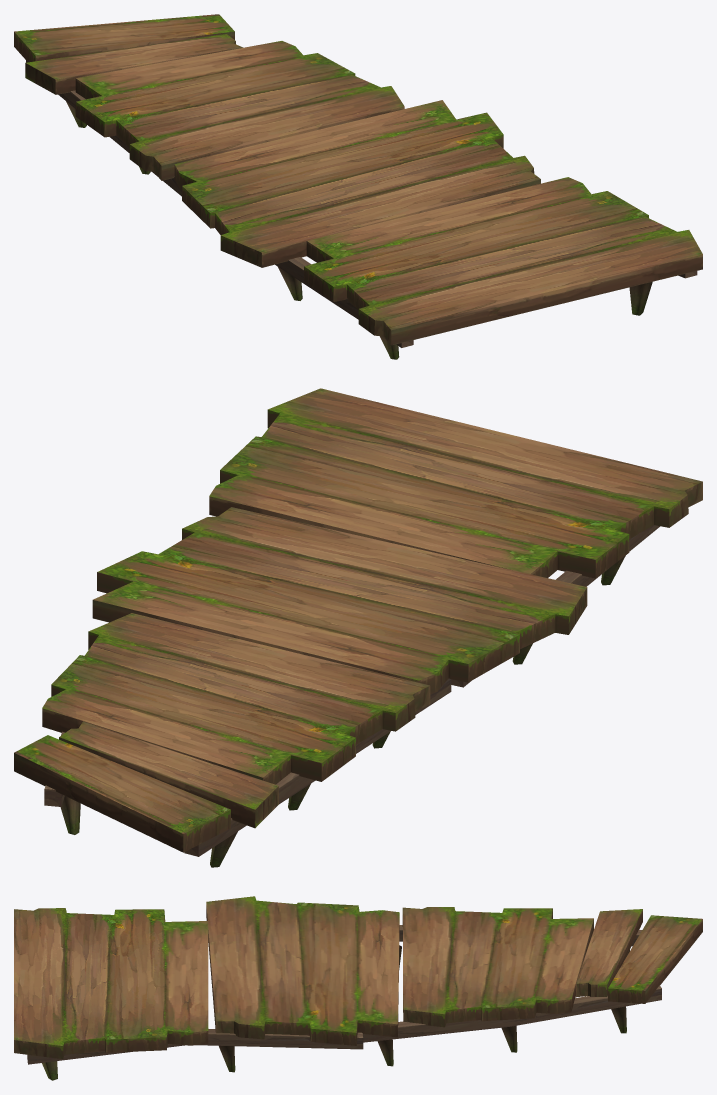
File: fb_lyhg_zj_20_b.FBX
The picture shows the model from 3 angles, top to bottom: view 1: azimuth 30°, elevation 25°; view 2: azimuth 150°, elevation 25°; view 3: azimuth 270°, elevation 25°; orthographic projection. The views are drawn at different scales.
Parts seen in each view (by area): view 1: fb_lyhg_zj_20_b; view 2: fb_lyhg_zj_20_b; view 3: fb_lyhg_zj_20_b.
Part boxes in pixels (x1=…): fb_lyhg_zj_20_b: x1=14, y1=14, x2=702, y2=359; fb_lyhg_zj_20_b: x1=14, y1=388, x2=702, y2=867; fb_lyhg_zj_20_b: x1=14, y1=896, x2=702, y2=1080.
Bounding box in the file's own units: 516 × 90.55 × 1002.
